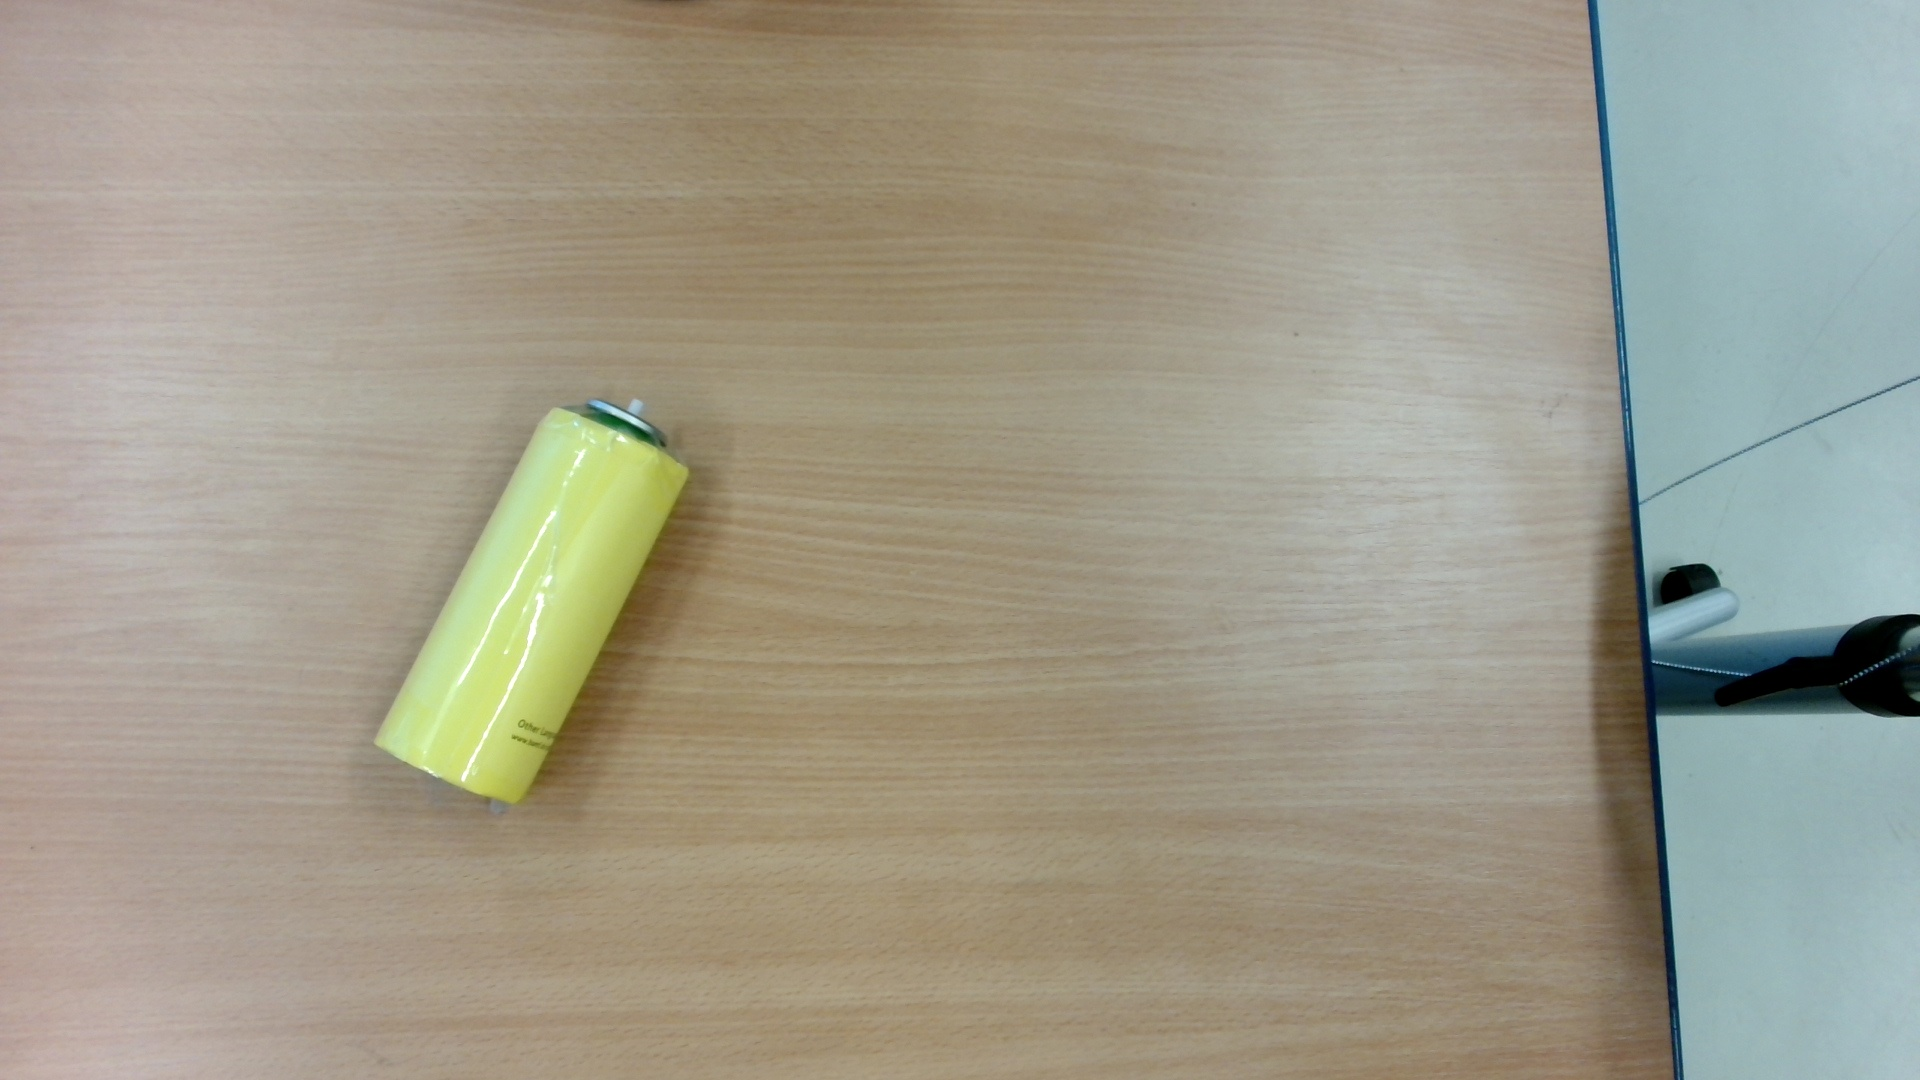Cylinder: (349, 381, 716, 825)
